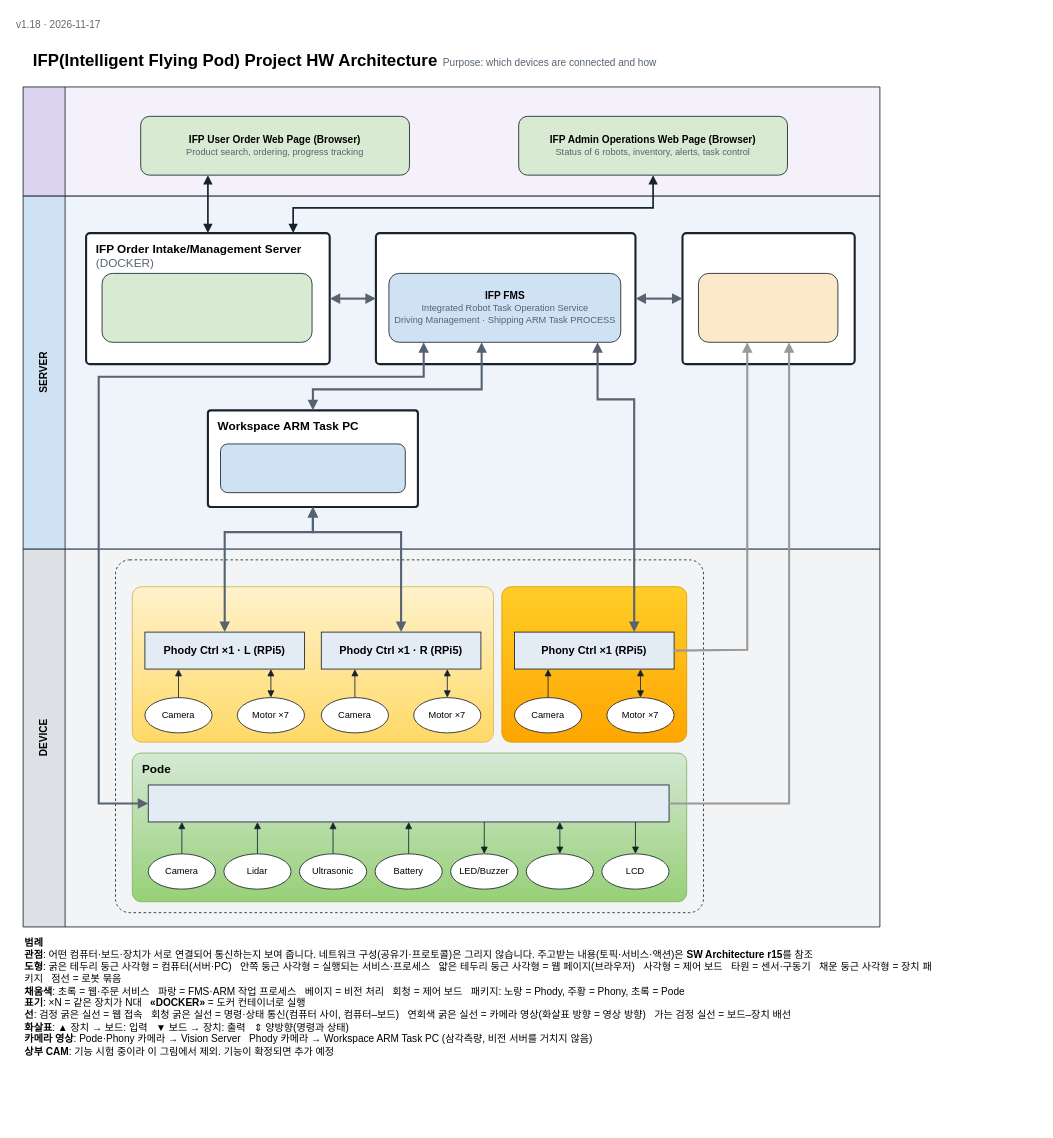
Image size: 1053x1138. Some labels were removed from this diagram. The shapes that lost their labels are listed below. From the top down, each one's box as (x1, y1, x2, y2) in pixels, then its label:
(22, 86, 880, 196): CLIENT
(101, 273, 312, 342): Central Order/Management Service «DOCKER»
(374, 232, 636, 365): IFP Goods Task Processing Server
(681, 232, 855, 365): Vision Server (×1~2)
(698, 273, 838, 342): Vision Processing
(220, 443, 405, 493): Workspace ARM Task PROCESS Triangulation (Phody cameras) · Phody control
(131, 586, 494, 742): Phody (Workspace)
(501, 586, 687, 742): Phony (Shipping Area)
(115, 559, 704, 913): ROBOTS
(147, 784, 669, 822): Pode Ctrl ×3 (RPi4)
(525, 853, 593, 889): Motor ×2
